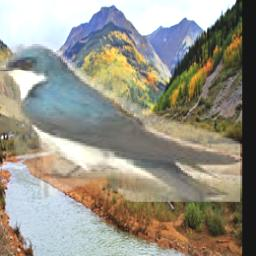Swallow: (0, 42, 241, 202)
